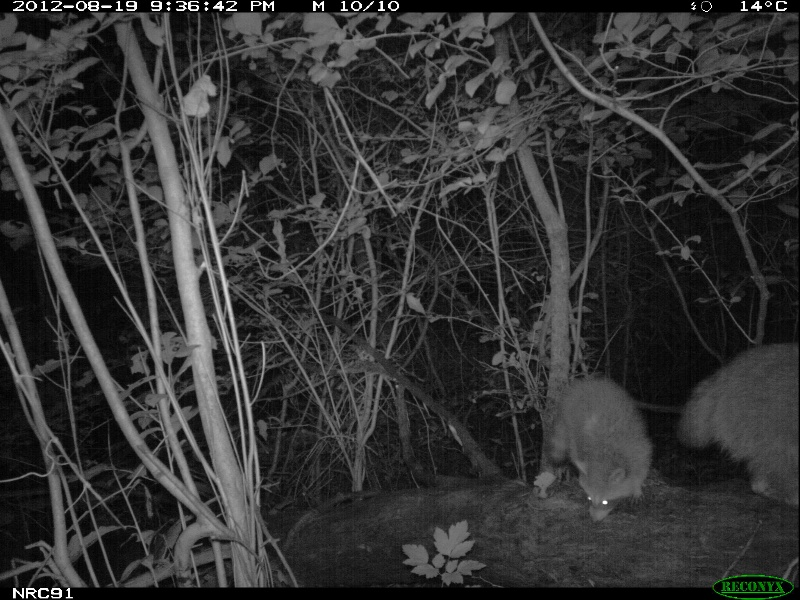raccoon: (531, 374, 652, 522)
